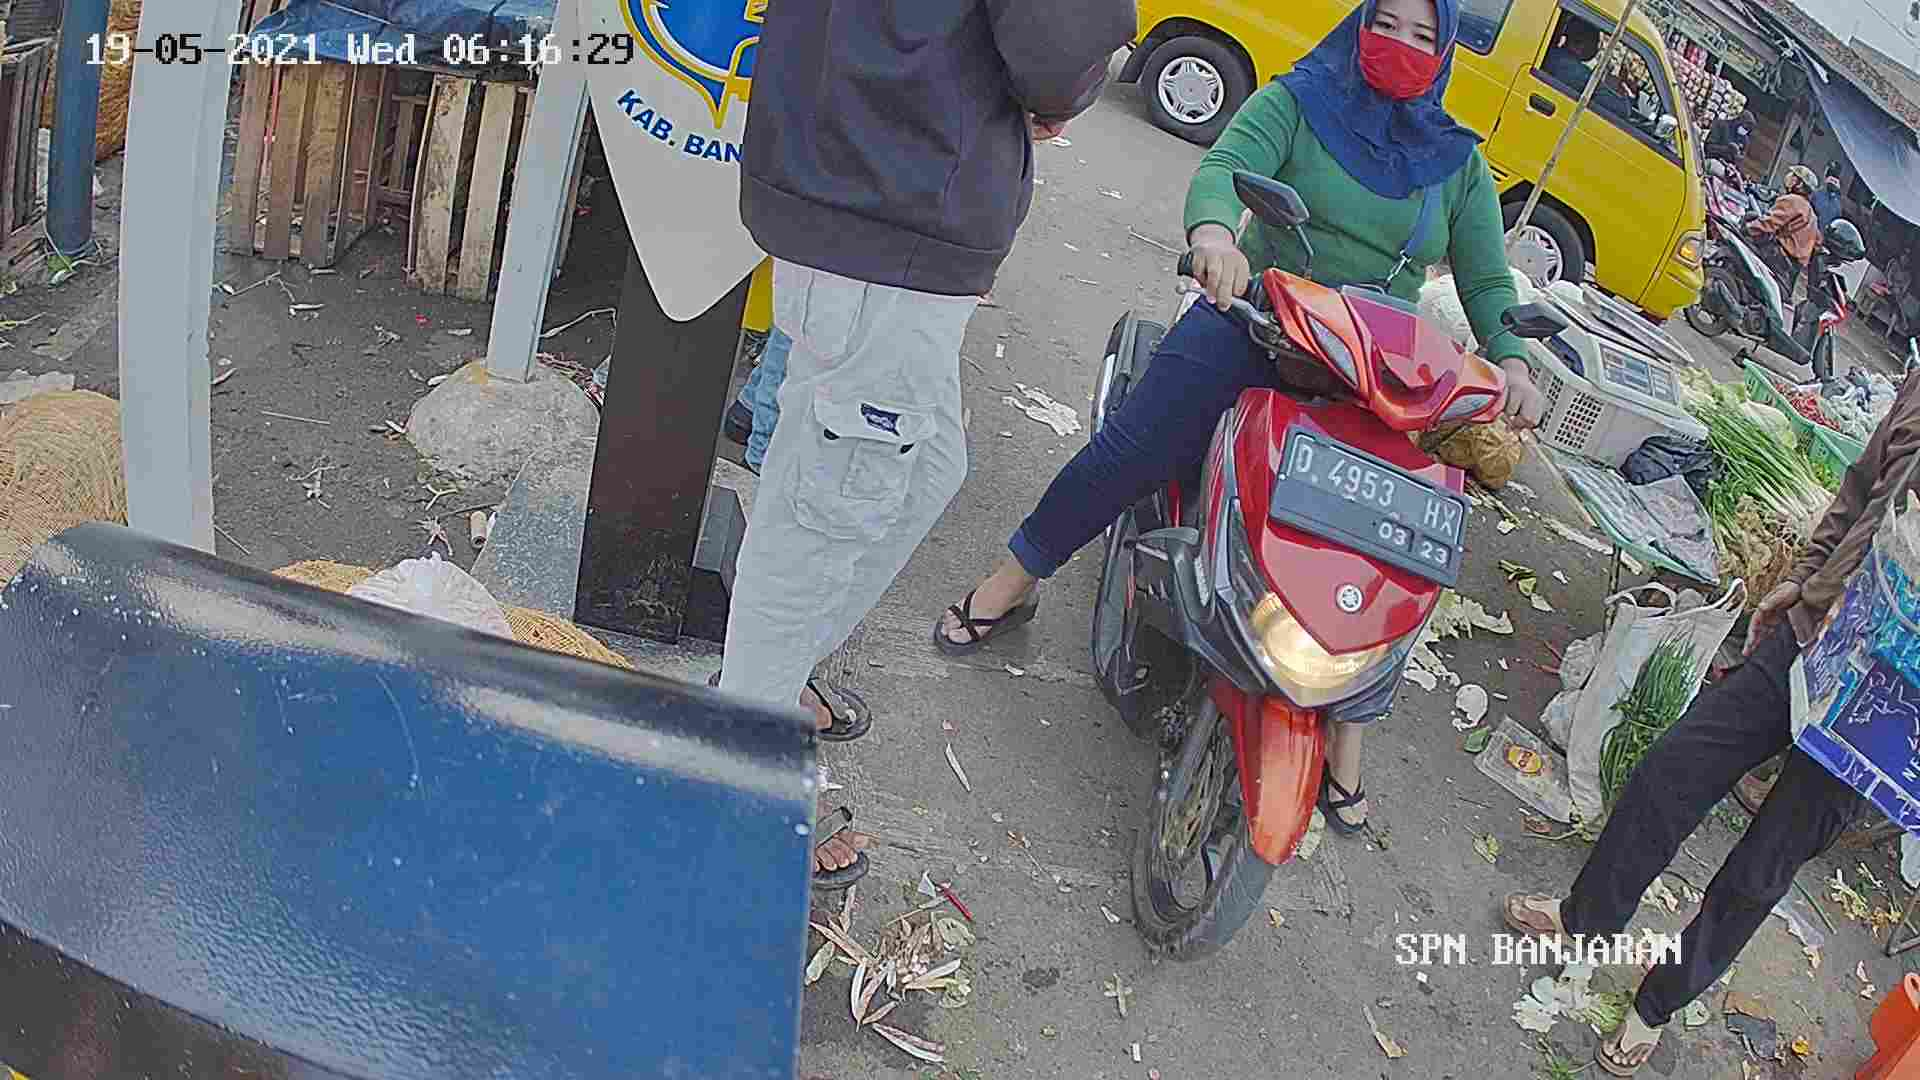motor: (1055, 158, 1534, 1019)
